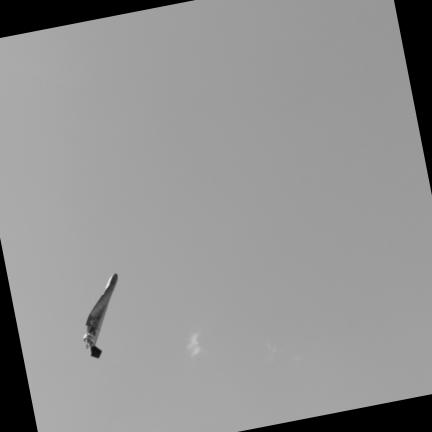Shahed: (83, 274, 116, 357)
